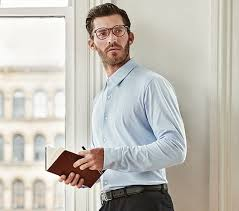F_belt: (96, 180, 177, 205)
F_shirt: (83, 56, 196, 197)
